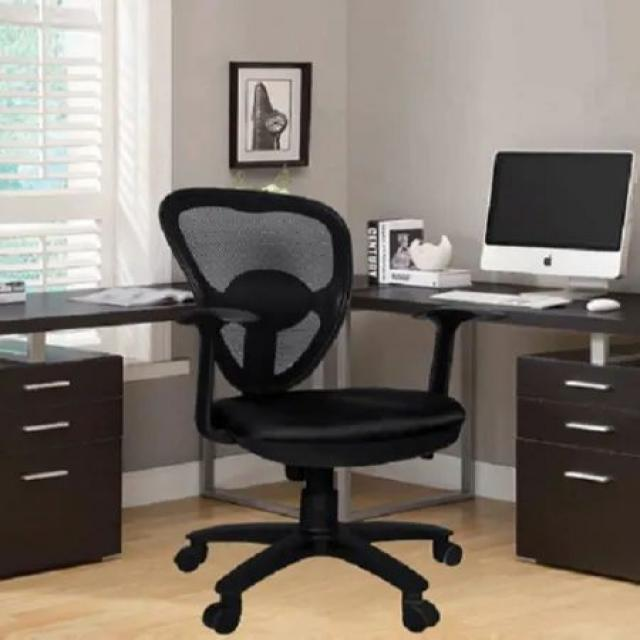chair: (146, 161, 499, 640)
